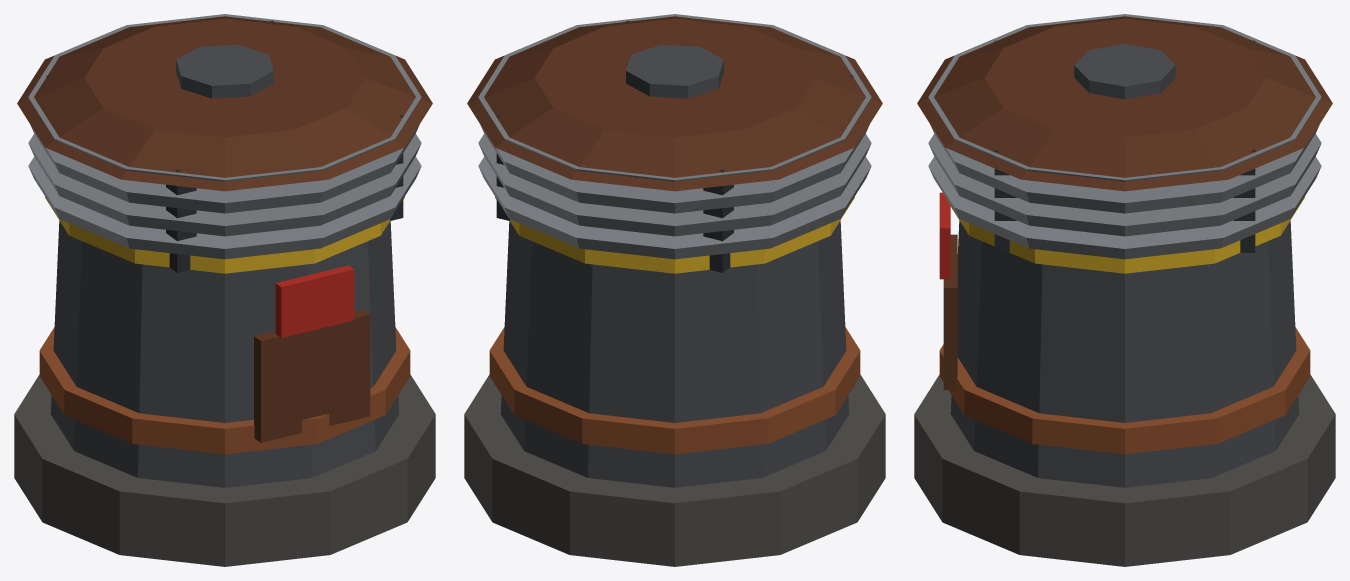
File: lmk_bunker_intake.fbx
3 renders of one model, left to right at view 1: azimuth 30°, elevation 25°; view 2: azimuth 150°, elevation 25°; view 3: azimuth 270°, elevation 25°, orthographic.
Visible parts, largest first — view 1: lmk_bunker_intake; view 2: lmk_bunker_intake; view 3: lmk_bunker_intake.
Boxes of the visible parts, x1,y1,x2,y2 form: lmk_bunker_intake: [14, 14, 435, 566]; lmk_bunker_intake: [464, 14, 885, 566]; lmk_bunker_intake: [914, 14, 1335, 566].
Size of the model in its own units: 1.5 by 1.62 by 1.5.
